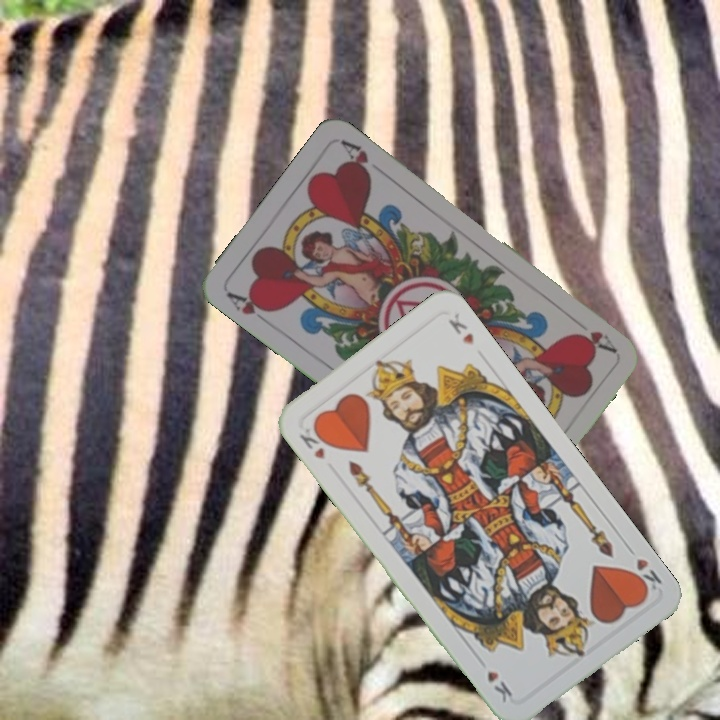HA: (222, 287, 277, 328), (571, 327, 618, 355)
HK: (622, 541, 664, 597), (295, 420, 333, 463)
